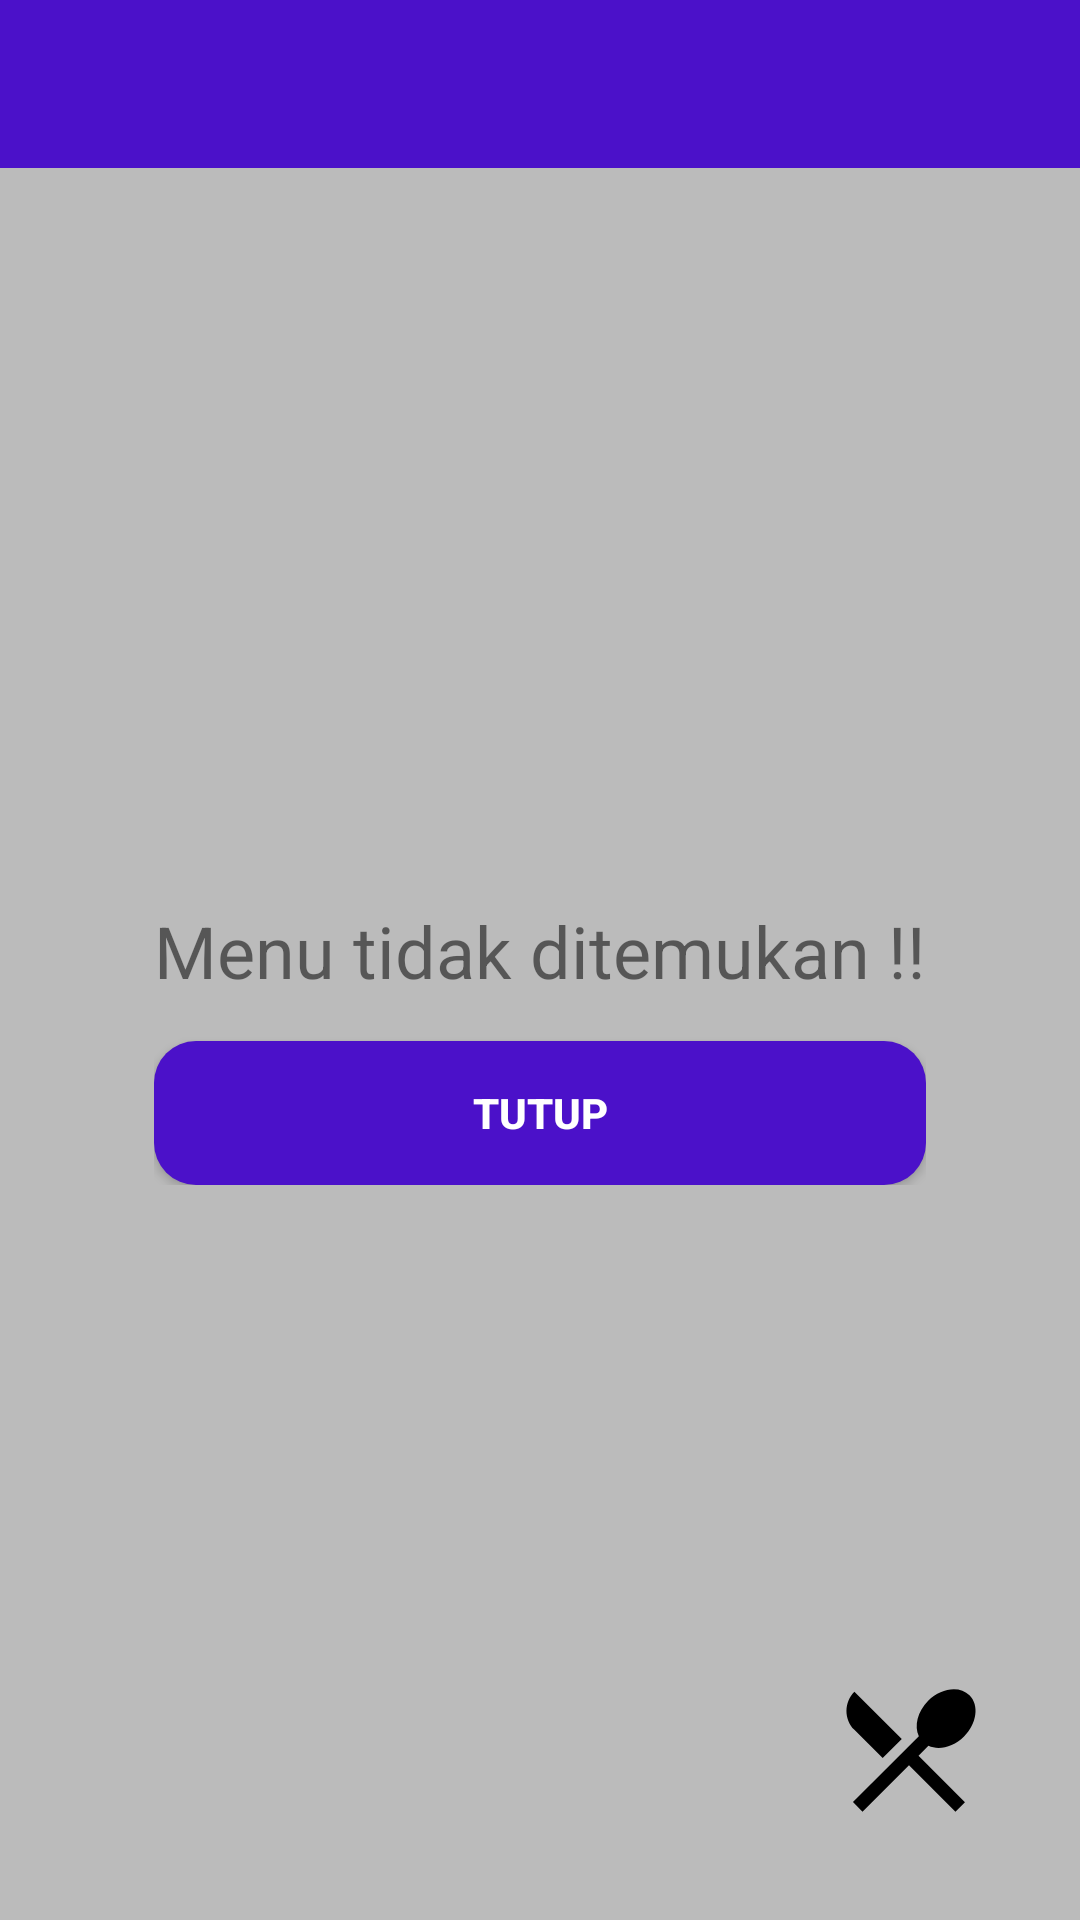

Named icons in this screenshot (1080px x 1920px) and their bounding boxes, region(x1, y1, x2, y2):
restaurant menu: region(846, 1689, 976, 1812)
